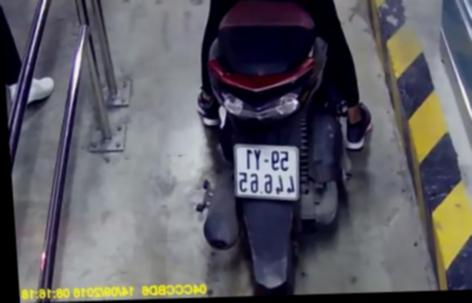License_Plate: (226, 139, 305, 209)
